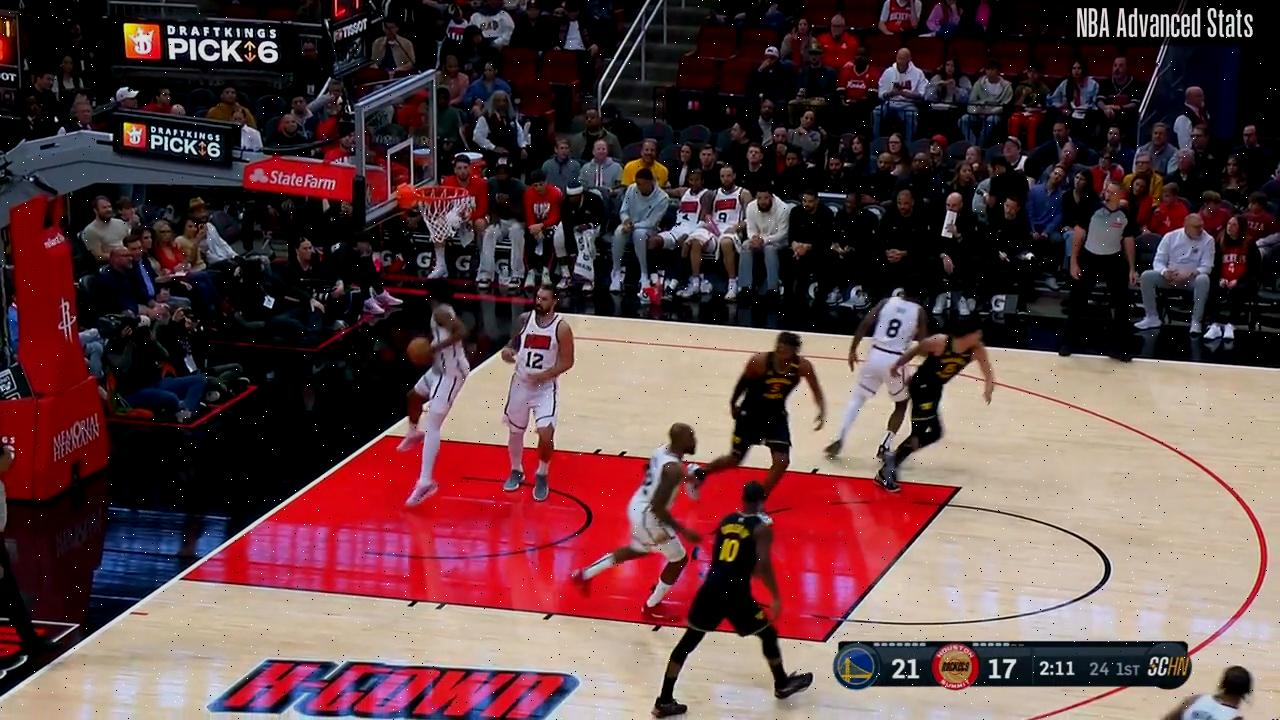basketball: (404, 336, 431, 363)
